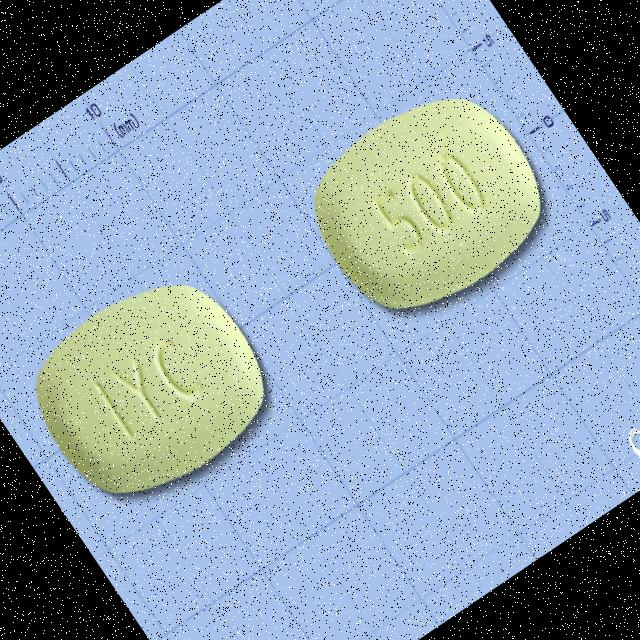Clafacin: (281, 57, 578, 348), (2, 245, 300, 534)
